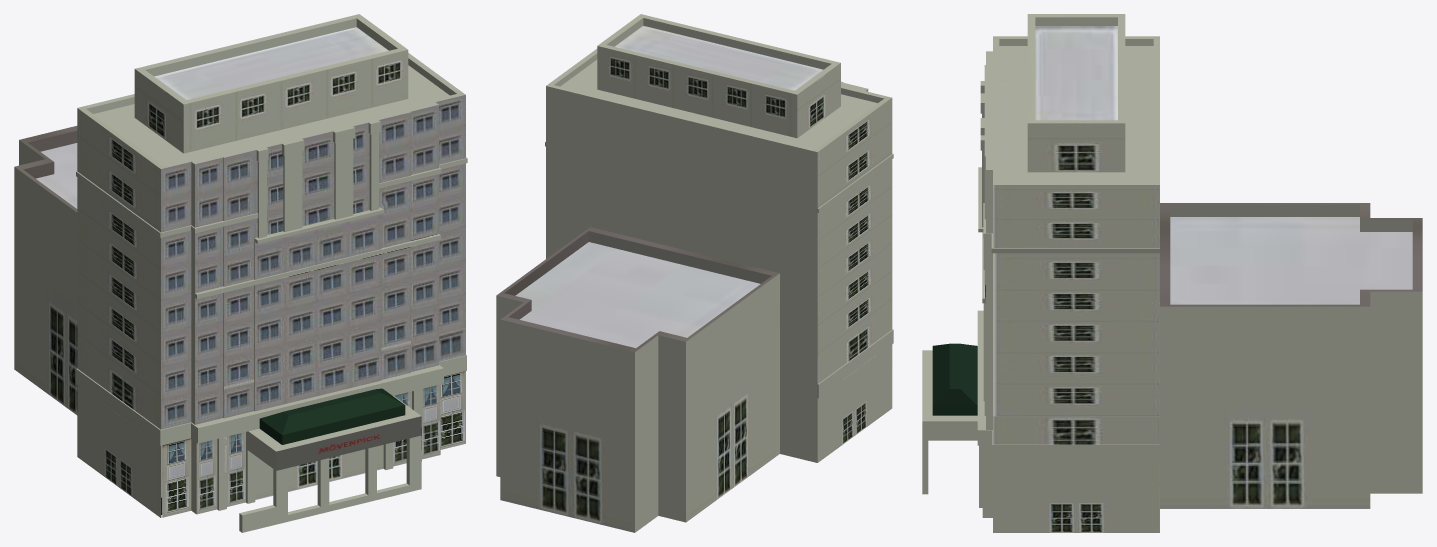
3 views of the same model, side by side, from view 1: azimuth 30°, elevation 25°; view 2: azimuth 150°, elevation 25°; view 3: azimuth 270°, elevation 25° (orthographic). The views are drawn at different scales.
Visible parts, largest first — view 1: Movenpick_Hanoi; view 2: Movenpick_Hanoi; view 3: Movenpick_Hanoi.
Part boxes in pixels (x1,y1,x2,y2): Movenpick_Hanoi: (14,14,467,532); Movenpick_Hanoi: (496,14,893,532); Movenpick_Hanoi: (922,14,1422,532).
Bounding box in the file's own units: 39.9 × 48.54 × 56.43.
1 material, 1 textured.
